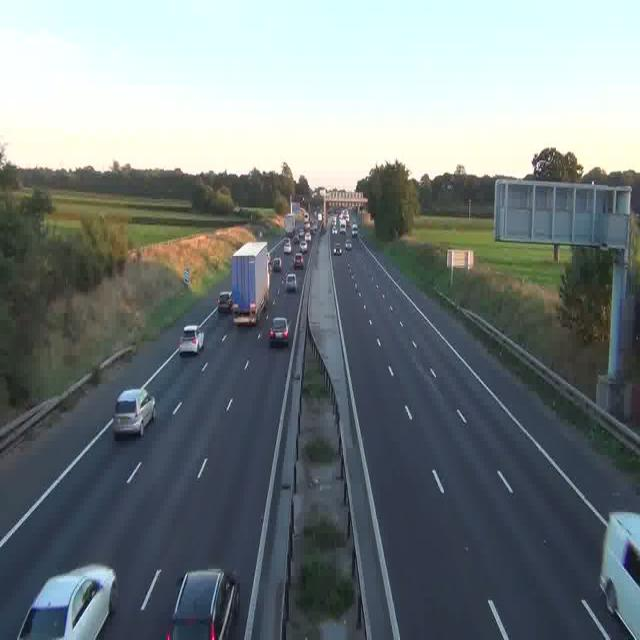car: (18, 563, 115, 640), (600, 511, 640, 640), (168, 568, 237, 639), (112, 389, 156, 438), (178, 324, 205, 354), (269, 314, 290, 346), (217, 291, 235, 313), (284, 272, 298, 292), (294, 254, 305, 268), (344, 238, 352, 251), (332, 244, 340, 256), (283, 240, 291, 252), (299, 242, 307, 253)
truck: (230, 240, 272, 323), (287, 214, 298, 238), (351, 221, 359, 240)
